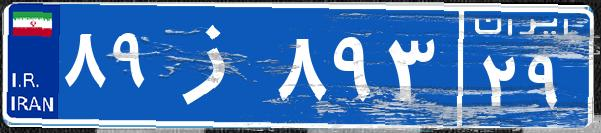2: (475, 38, 525, 113)
3: (385, 28, 445, 110)
8: (273, 28, 330, 110), (57, 26, 110, 107)
9: (330, 28, 385, 110), (110, 28, 158, 105), (525, 38, 570, 115)
ز: (158, 15, 273, 115)
